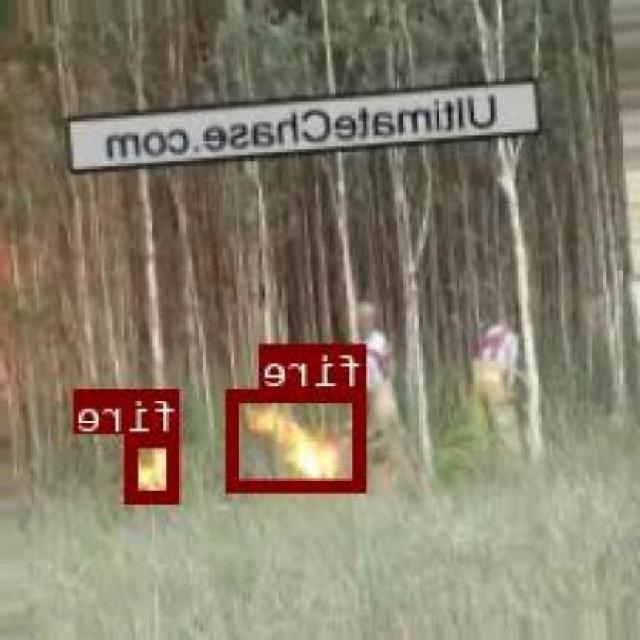Fire: (230, 388, 368, 490), (129, 433, 183, 501)
